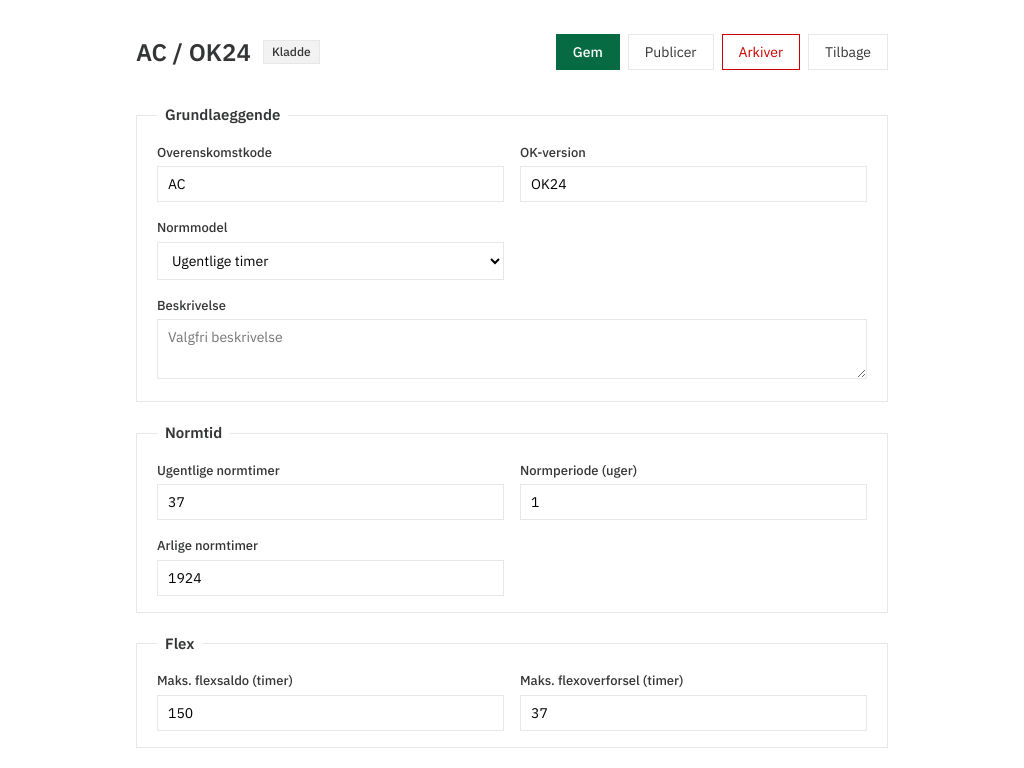
it: AgreementConfigEditor — 412 banner-with-retry › renders the stale-conflict banner on 412 with expected/actual version pair
Expected: the heading "AC / OK24" is shown, [136, 36, 251, 68]
# Click "Gem" — the first button (primary save).
What coordinates should you click on to do the following:
click the button "Gem"
I would click on:
 (588, 52)
Its box is [556, 34, 620, 70].
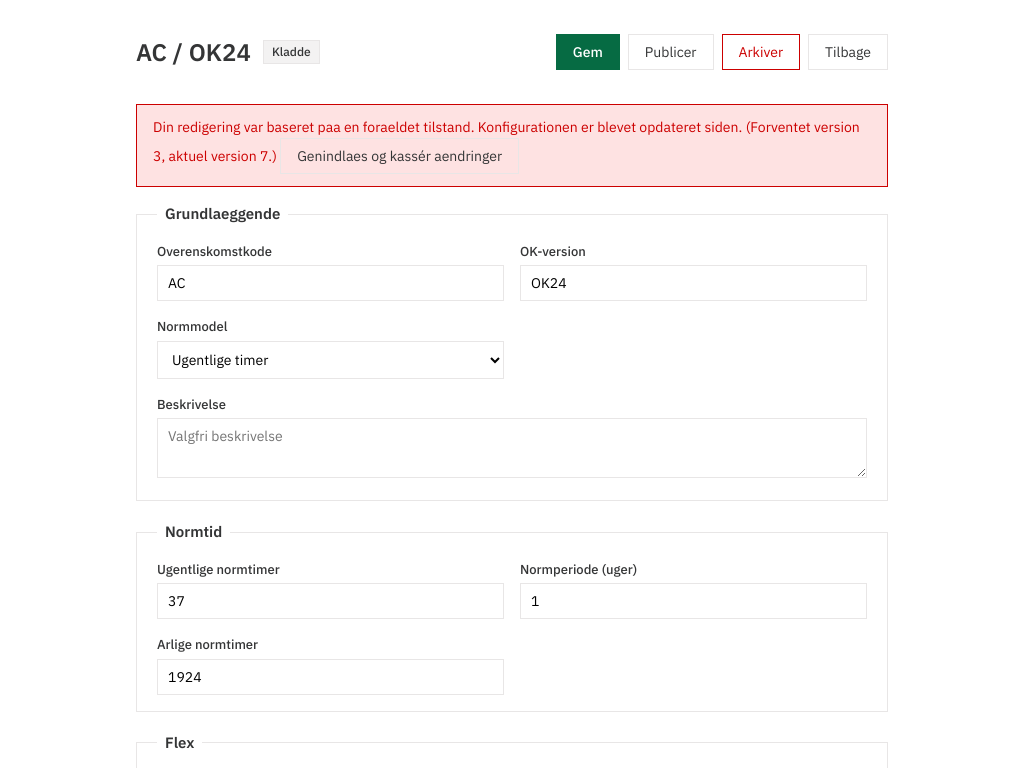
Expected: the message with test id "stale-conflict-banner" shows "Forventet version 3", [136, 104, 888, 187]
Expected: the message with test id "stale-conflict-banner" shows "aktuel version 7", [136, 104, 888, 187]
